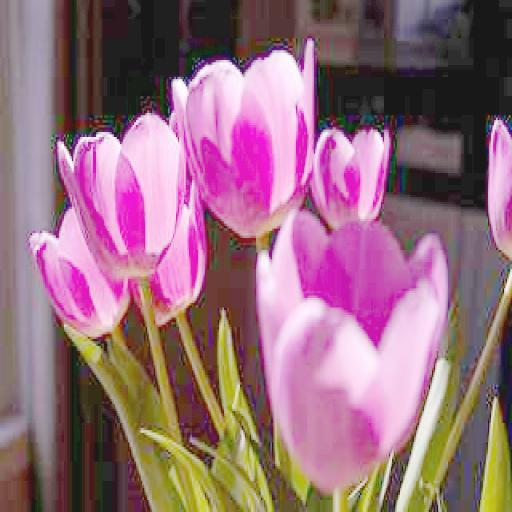tulip: (258, 212, 444, 486), (173, 38, 317, 236), (58, 115, 182, 267)
